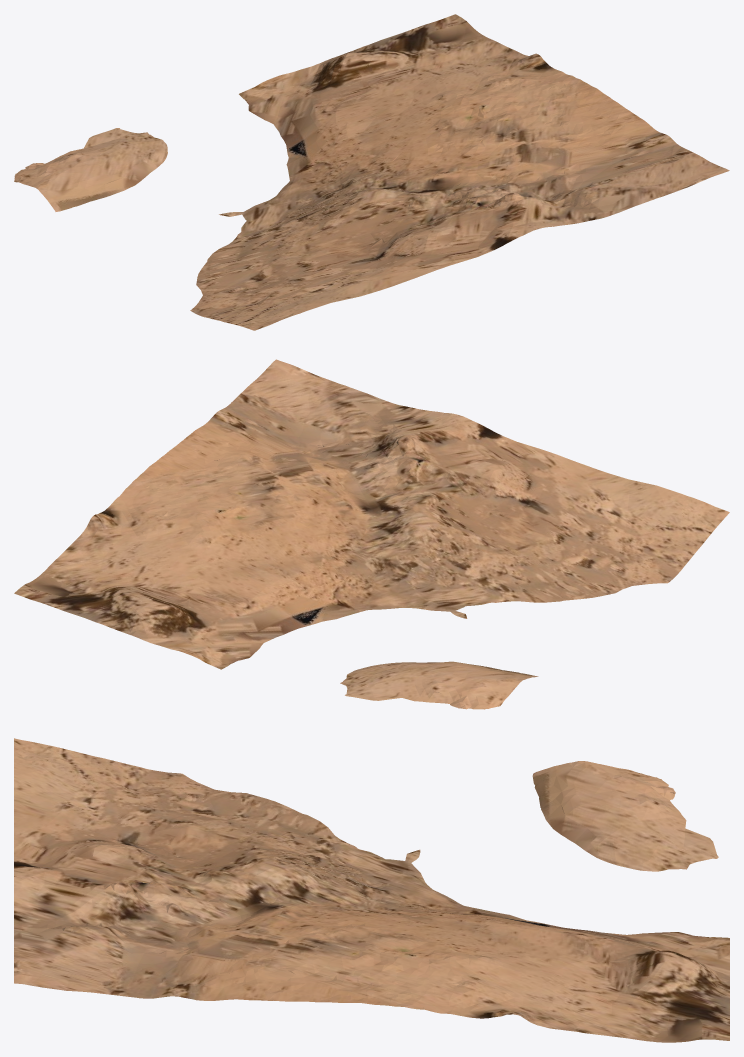
3 views of the same model, one above another, from view 1: azimuth 30°, elevation 25°; view 2: azimuth 150°, elevation 25°; view 3: azimuth 270°, elevation 25° (orthographic). The views are drawn at different scales.
Bounding box in the file's own units: 4.18 × 0.5968 × 4.18.
2 materials, 2 textured.
